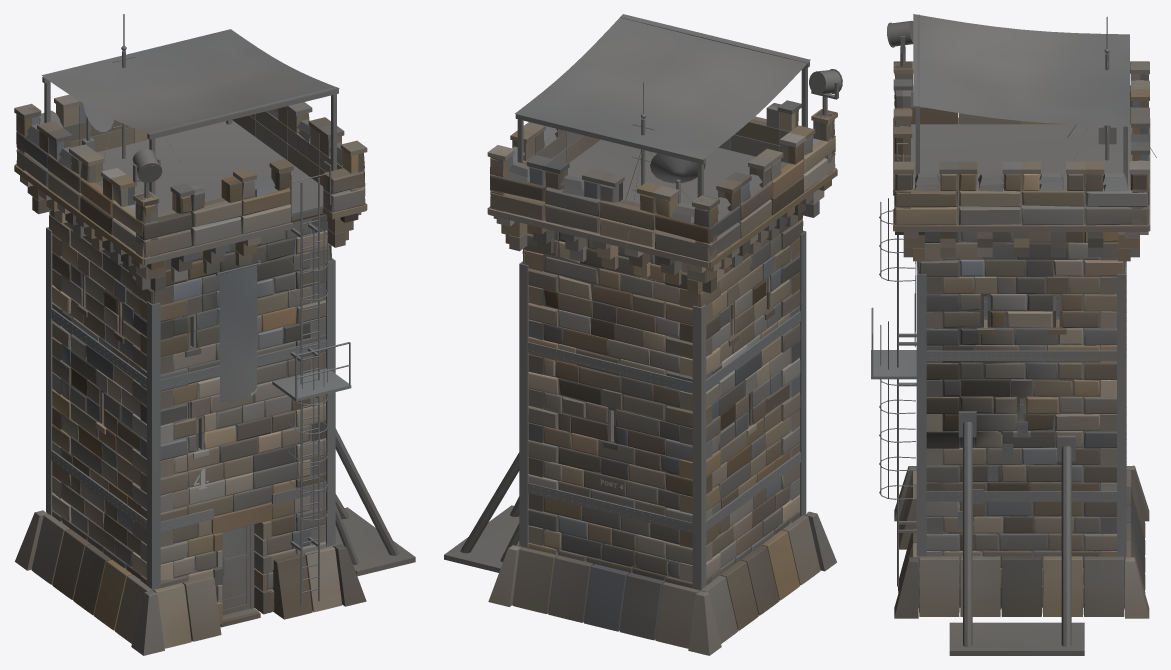
Rendered from Watchtower4_LOD0.glb.
3 views of the same model, side by side, from view 1: azimuth 30°, elevation 25°; view 2: azimuth 150°, elevation 25°; view 3: azimuth 270°, elevation 25° (orthographic).
Visible parts, largest first — view 1: Watchtower4_Masonry_LOD0, Watchtower4_Trim_LOD0, Watchtower4_Metal_LOD0, Watchtower4_Canvas_LOD0, Watchtower4_Roof_LOD0, Watchtower4_Hardware_LOD0; view 2: Watchtower4_Masonry_LOD0, Watchtower4_Trim_LOD0, Watchtower4_Metal_LOD0, Watchtower4_Canvas_LOD0, Watchtower4_Roof_LOD0; view 3: Watchtower4_Masonry_LOD0, Watchtower4_Trim_LOD0, Watchtower4_Metal_LOD0, Watchtower4_Canvas_LOD0, Watchtower4_Roof_LOD0.
Boxes of the visible parts, left/top/right/bottom form: Watchtower4_Masonry_LOD0: left=16, top=104, right=365, bottom=611; Watchtower4_Trim_LOD0: left=14, top=94, right=367, bottom=655; Watchtower4_Metal_LOD0: left=26, top=14, right=351, bottom=620; Watchtower4_Canvas_LOD0: left=41, top=29, right=339, bottom=403; Watchtower4_Roof_LOD0: left=335, top=428, right=415, bottom=576; Watchtower4_Hardware_LOD0: left=54, top=220, right=323, bottom=592; Watchtower4_Masonry_LOD0: left=490, top=103, right=835, bottom=590; Watchtower4_Trim_LOD0: left=487, top=100, right=837, bottom=655; Watchtower4_Metal_LOD0: left=505, top=16, right=842, bottom=589; Watchtower4_Canvas_LOD0: left=515, top=14, right=810, bottom=159; Watchtower4_Roof_LOD0: left=444, top=452, right=519, bottom=572; Watchtower4_Masonry_LOD0: left=894, top=74, right=1149, bottom=607; Watchtower4_Trim_LOD0: left=893, top=61, right=1150, bottom=618; Watchtower4_Metal_LOD0: left=871, top=14, right=1156, bottom=586; Watchtower4_Canvas_LOD0: left=913, top=14, right=1129, bottom=346; Watchtower4_Roof_LOD0: left=949, top=422, right=1084, bottom=655.
Bounding box in the file's own units: 7.78 × 13.26 × 6.35.
